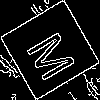M: (25, 25, 85, 84)
